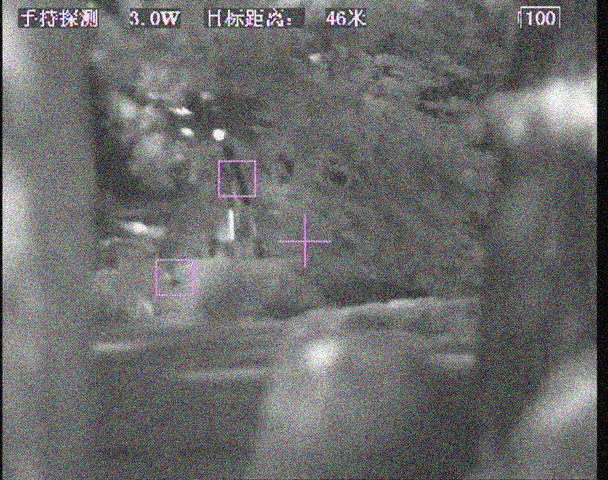my: (212, 128, 225, 142)
